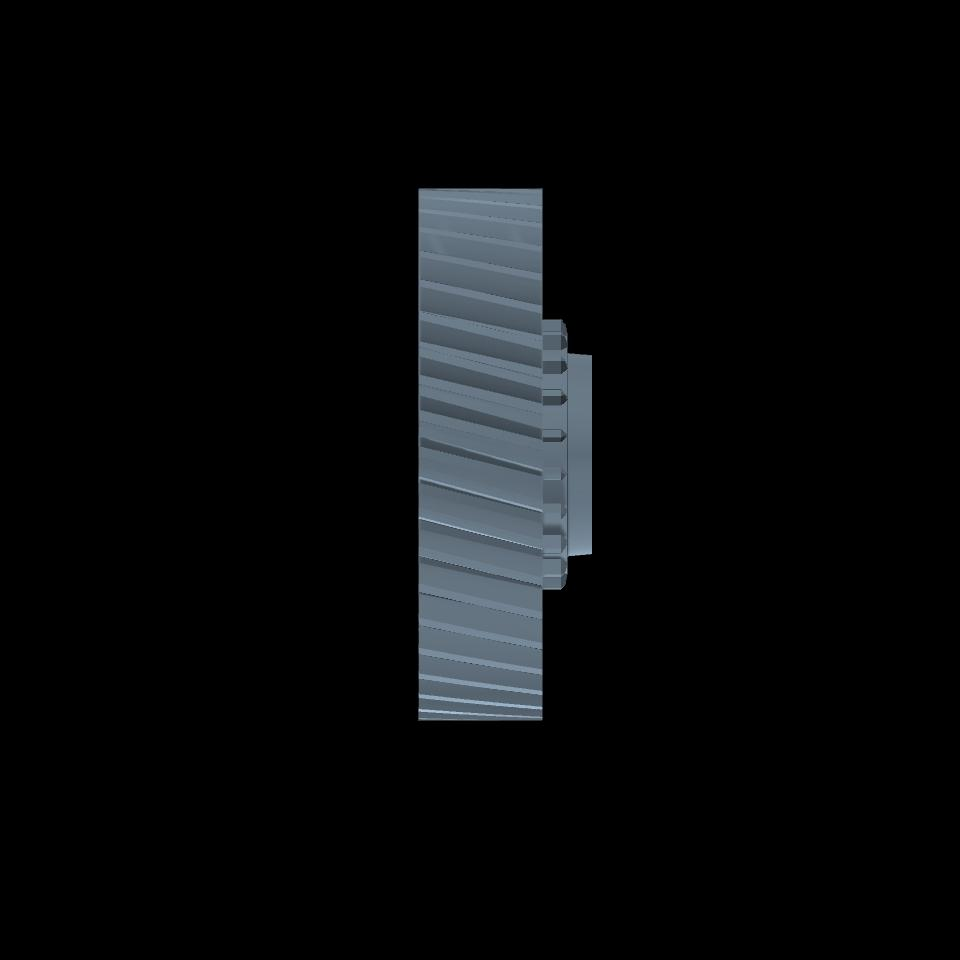Helical: (418, 190, 542, 717)
Straight: (541, 320, 564, 592)
